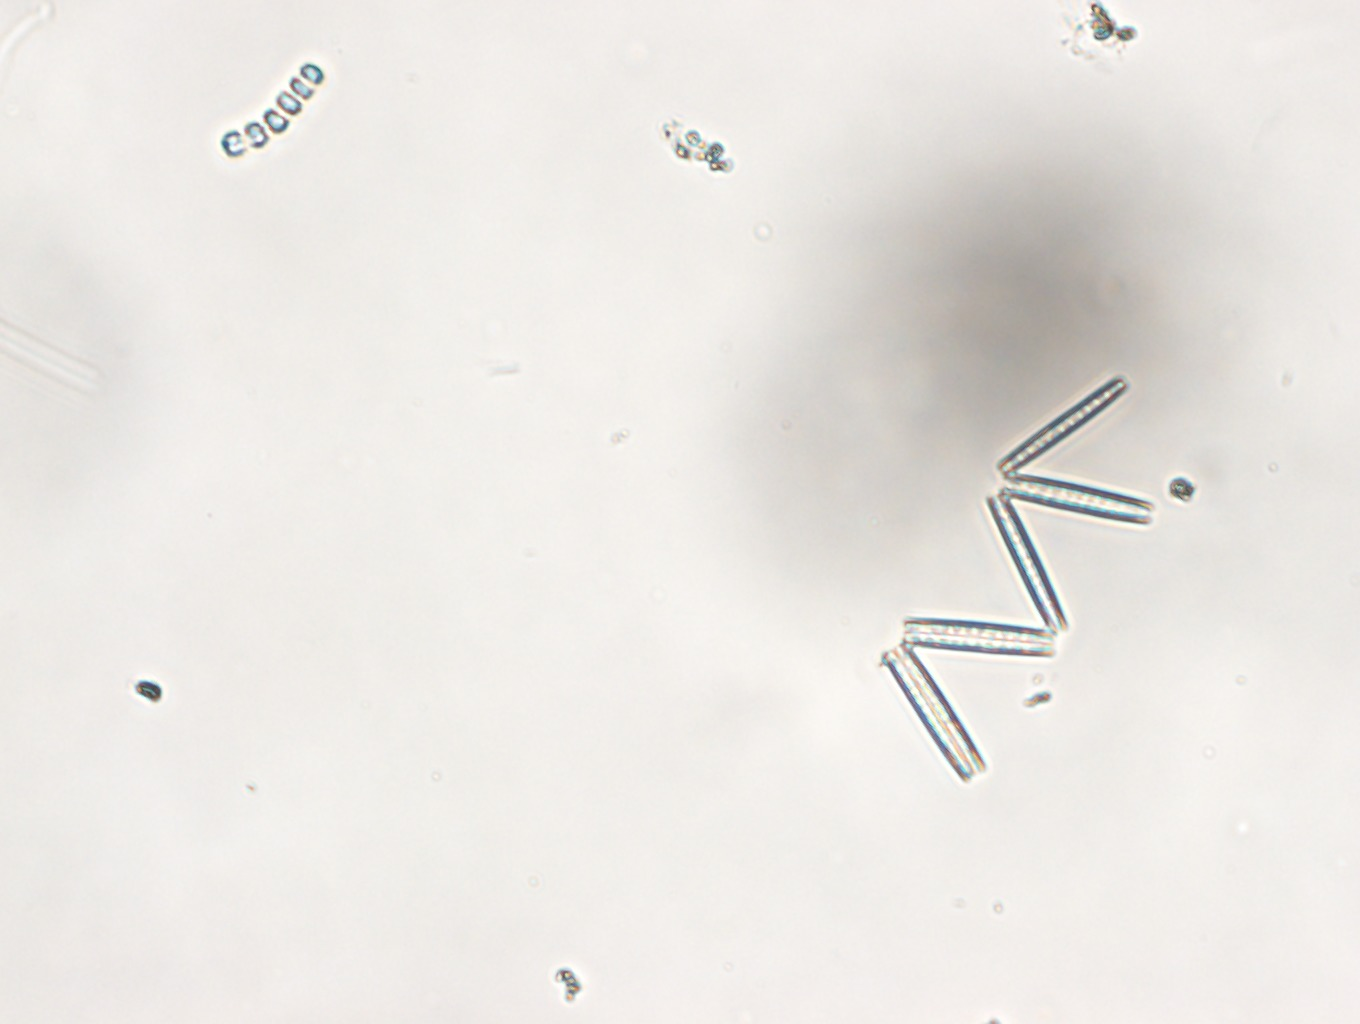skeletonema: (216, 60, 323, 161)
thalassionema nitzschioides: (882, 374, 1155, 783)
